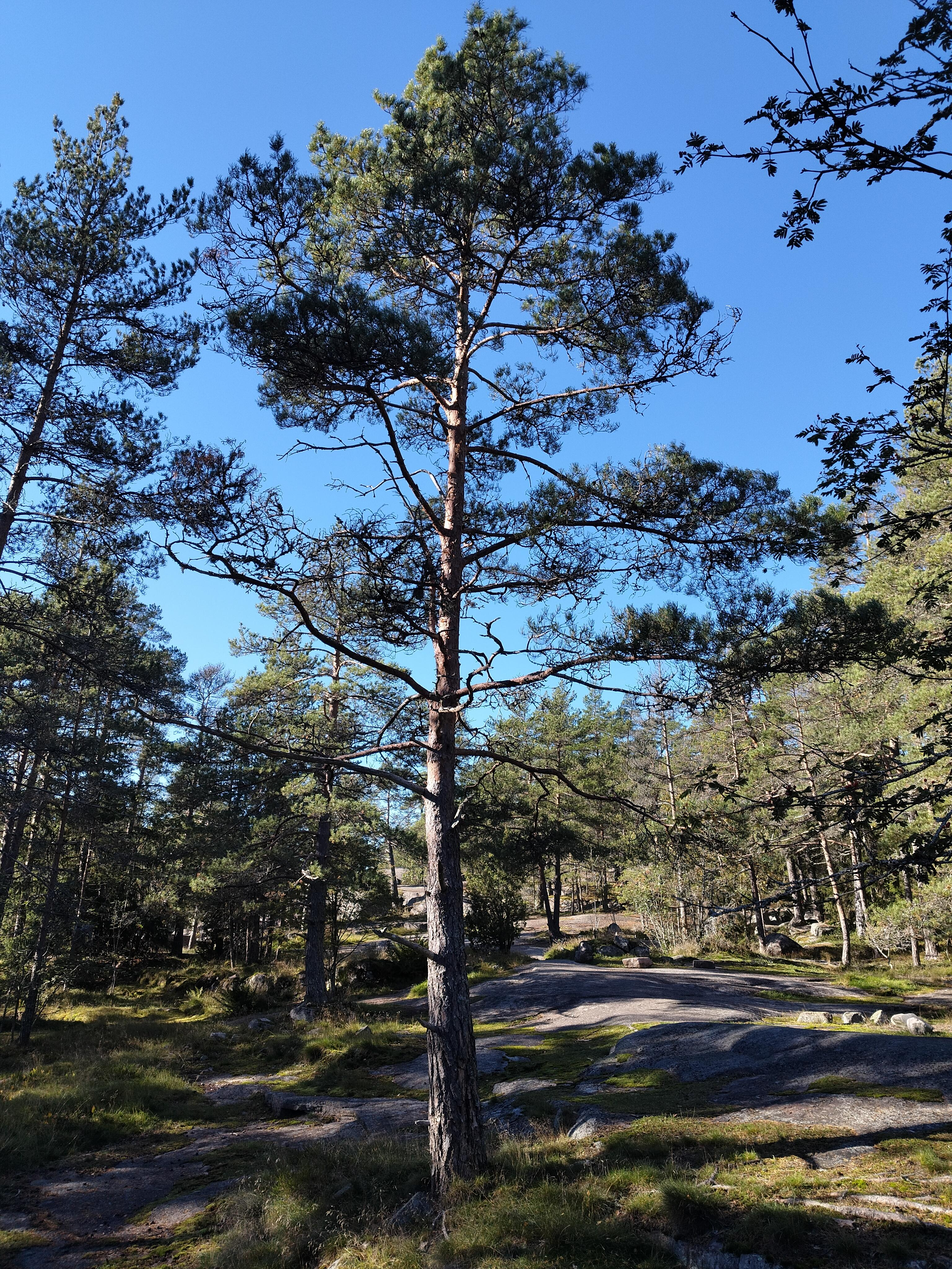Pine: (177, 2, 774, 1200)
